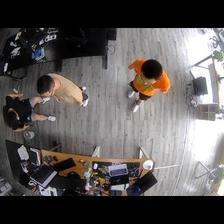normal: (125, 57, 171, 114), (4, 94, 57, 132), (38, 73, 93, 107)
